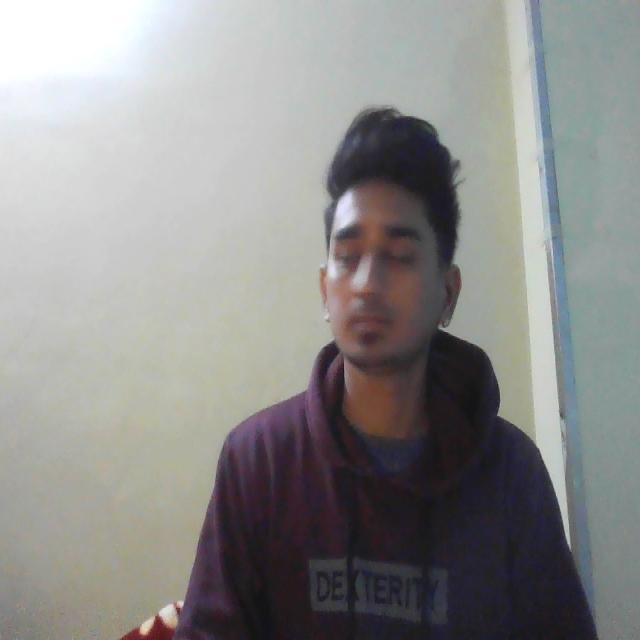real: (319, 123, 463, 394)
